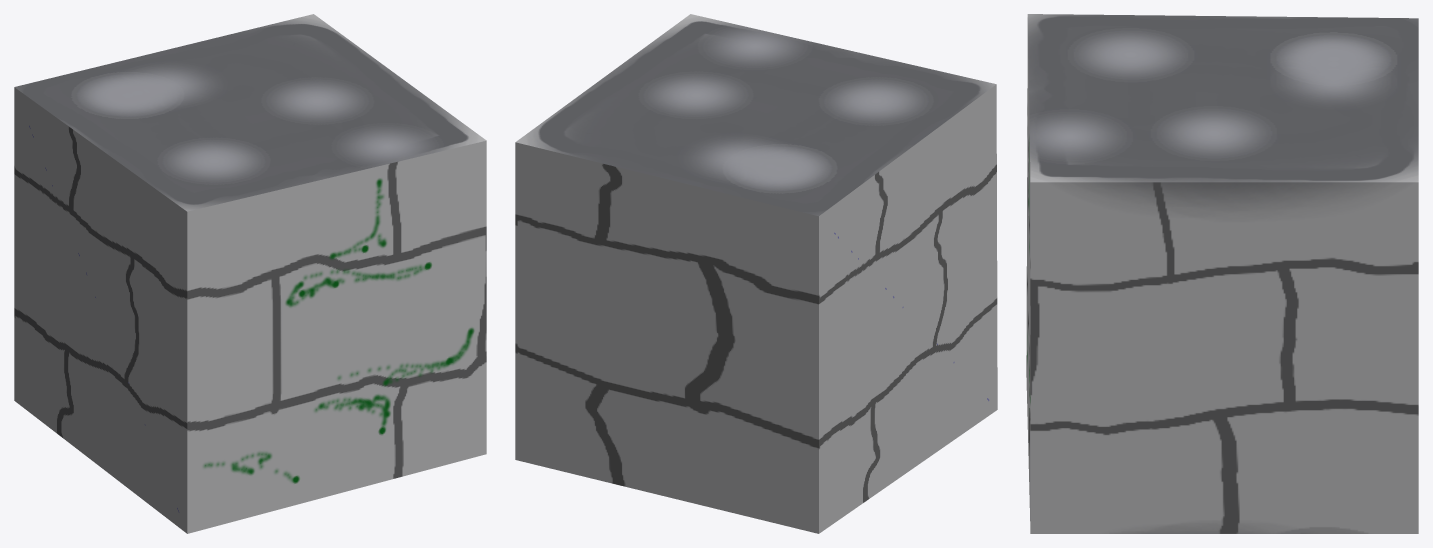
The model's file is barrier.glb.
3 views of the same model, side by side, from view 1: azimuth 30°, elevation 25°; view 2: azimuth 150°, elevation 25°; view 3: azimuth 270°, elevation 25° (orthographic). The views are drawn at different scales.
Visible parts, largest first — view 1: Cube; view 2: Cube; view 3: Cube.
Boxes of the visible parts, x1,y1,x2,y2 form: Cube: (14,14,486,533); Cube: (515,14,997,533); Cube: (1026,14,1418,533).
Size of the model in its own units: 0.5027 by 0.5131 by 0.5052.
1 material, 1 textured.
